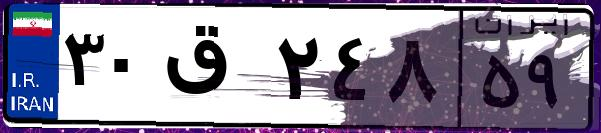0: (110, 28, 158, 98)
2: (270, 28, 330, 110)
3: (57, 26, 110, 100)
4: (330, 28, 385, 110)
5: (475, 38, 525, 113)
8: (385, 28, 445, 110)
9: (525, 38, 570, 115)
ق: (158, 20, 270, 120)
